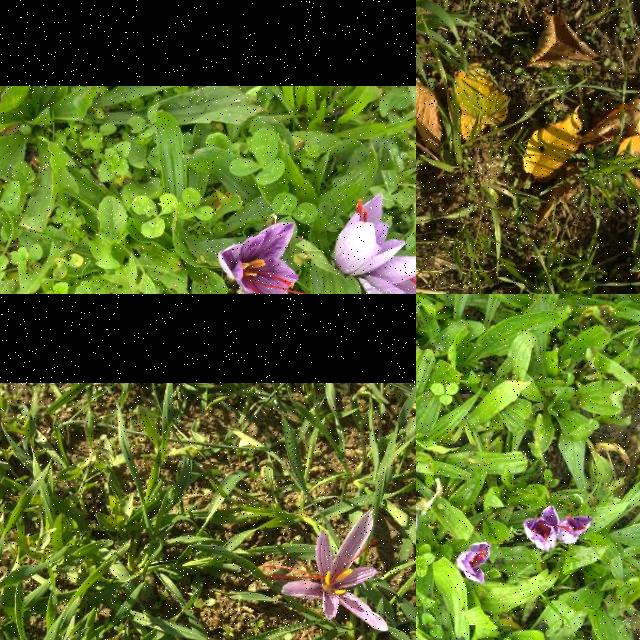flower: (282, 510, 388, 630), (218, 222, 309, 294), (334, 194, 406, 276), (524, 506, 570, 550), (364, 257, 416, 294), (457, 542, 491, 584), (558, 515, 594, 545)
